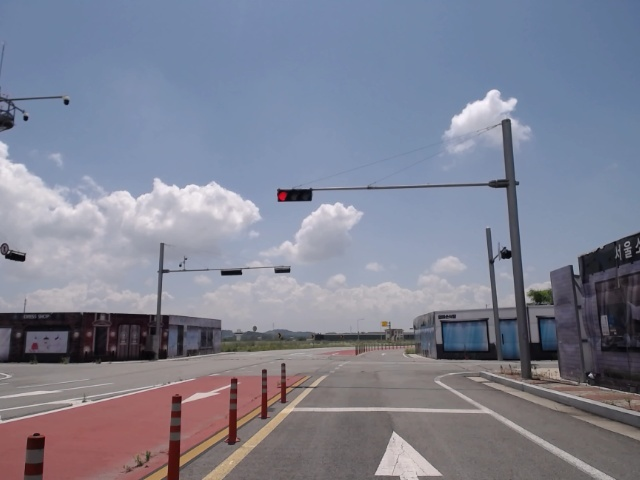red_3: (276, 190, 313, 203)
